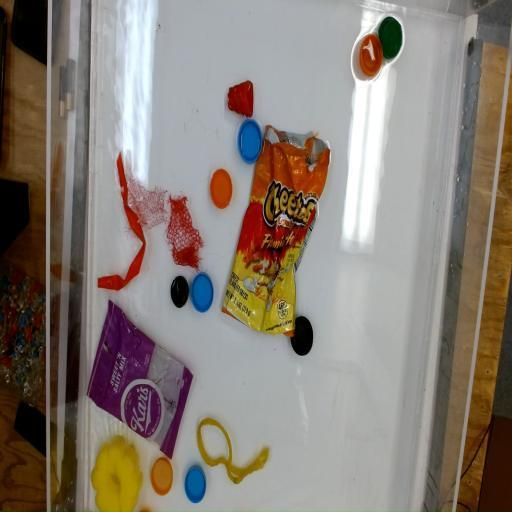Bottle Cap: (379, 16, 404, 63), (238, 119, 264, 163), (358, 34, 382, 78), (290, 316, 314, 357), (210, 168, 232, 211), (192, 272, 214, 314), (151, 457, 173, 497), (186, 466, 206, 504), (171, 275, 189, 311)
Cone Cap: (228, 79, 255, 119)
Netting: (126, 158, 168, 232), (168, 196, 204, 278)
Plastic Bag: (222, 125, 331, 336), (87, 299, 193, 458)
Plastic Strand: (98, 152, 145, 291), (196, 418, 271, 484)
Sponge: (90, 435, 144, 512)
